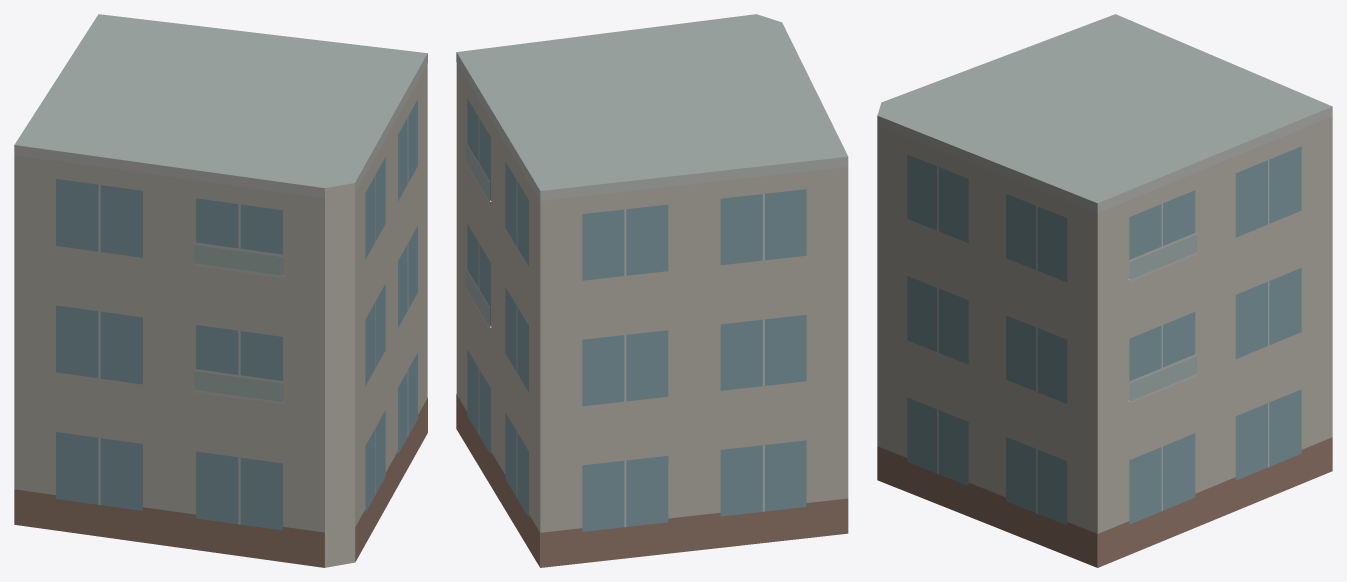
File: survey-upis-32999100.glb
3 renders of one model, left to right at view 1: azimuth 30°, elevation 25°; view 2: azimuth 150°, elevation 25°; view 3: azimuth 270°, elevation 25°, orthographic. The views are drawn at different scales.
Visible parts, largest first — view 1: survey-upis-32999100.tmp; view 2: survey-upis-32999100.tmp; view 3: survey-upis-32999100.tmp.
Part boxes in pixels (x1,y1,x2,y2): survey-upis-32999100.tmp: [14, 14, 427, 567]; survey-upis-32999100.tmp: [456, 14, 848, 567]; survey-upis-32999100.tmp: [877, 14, 1332, 567].
Size of the model in its own units: 10.14 by 9.1 by 10.31.
